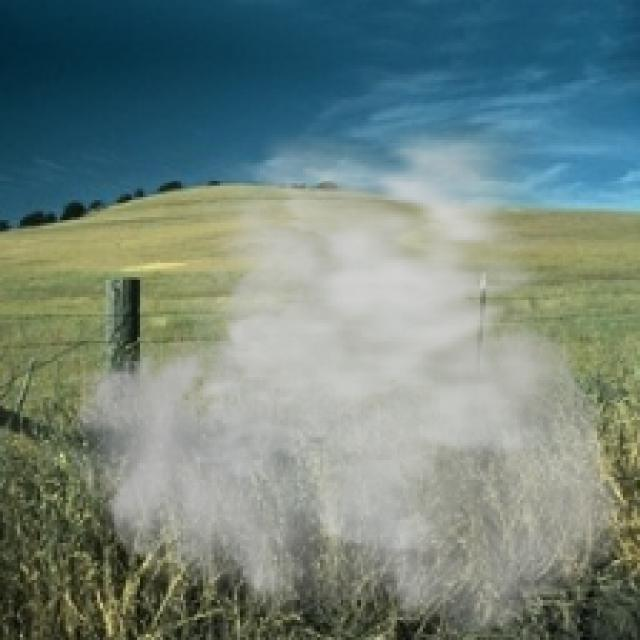Smoke: (66, 100, 634, 637)
